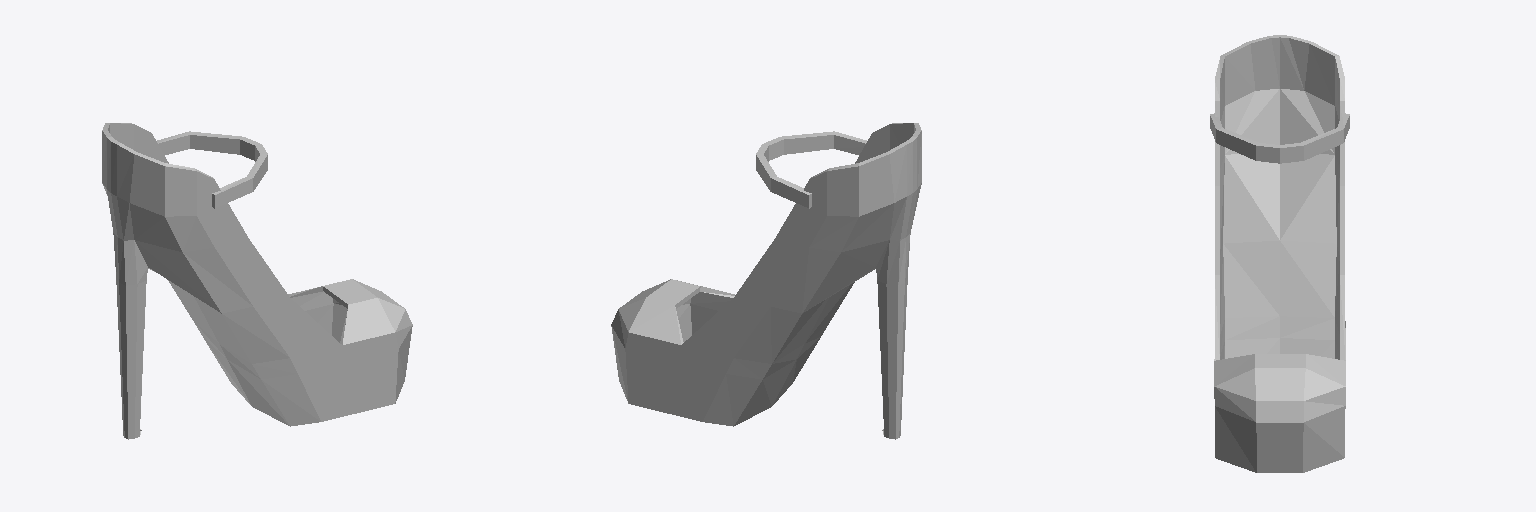
Rendered from Stillettos.obj.
3 renders of one model, left to right at view 1: azimuth 30°, elevation 25°; view 2: azimuth 150°, elevation 25°; view 3: azimuth 270°, elevation 25°, orthographic.
Visible parts, largest first — view 1: Stillettos_Cube.030; view 2: Stillettos_Cube.030; view 3: Stillettos_Cube.030.
Boxes of the visible parts, <box> form: Stillettos_Cube.030: <box>102,123,412,439</box>; Stillettos_Cube.030: <box>611,123,921,439</box>; Stillettos_Cube.030: <box>1210,35,1349,472</box>.
Bounding box in the file's own units: 9.46 × 9.36 × 3.97.